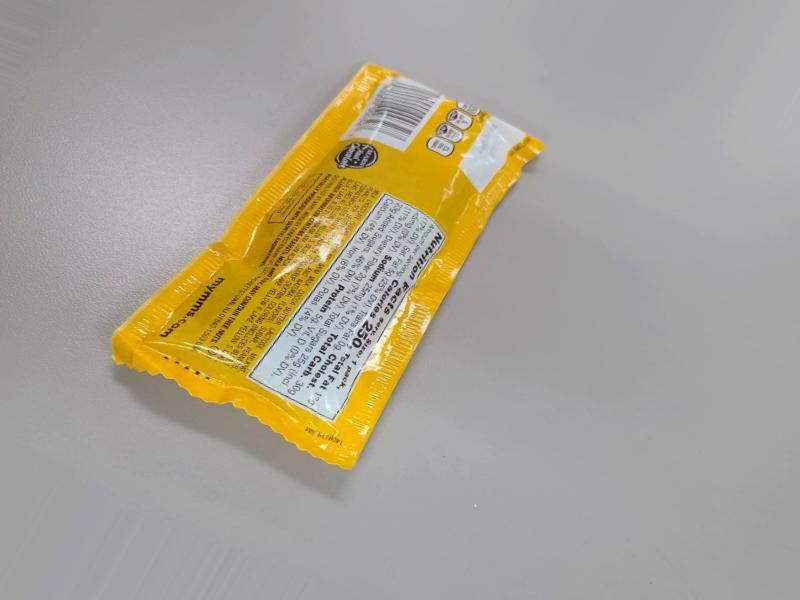m&m: (153, 35, 476, 467)
